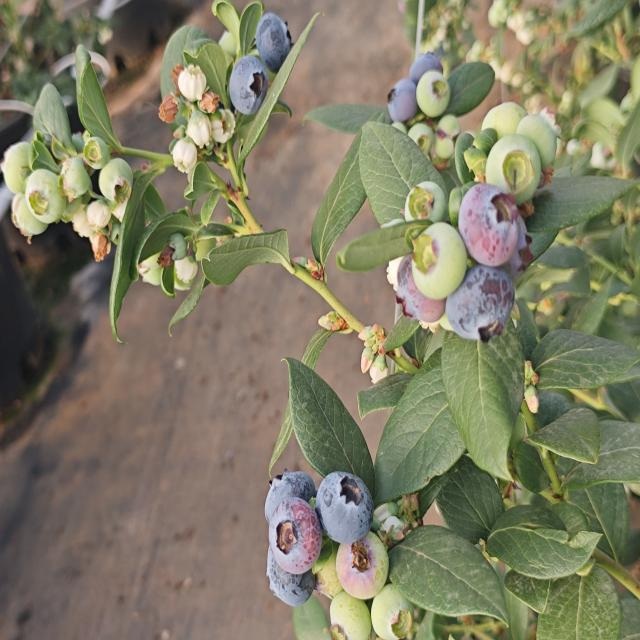ripe: (455, 170, 524, 268), (442, 260, 512, 342), (260, 497, 322, 576), (318, 470, 376, 543), (262, 541, 319, 608), (262, 468, 318, 534), (251, 3, 300, 77), (228, 52, 272, 118), (382, 79, 424, 127), (406, 52, 446, 86)
